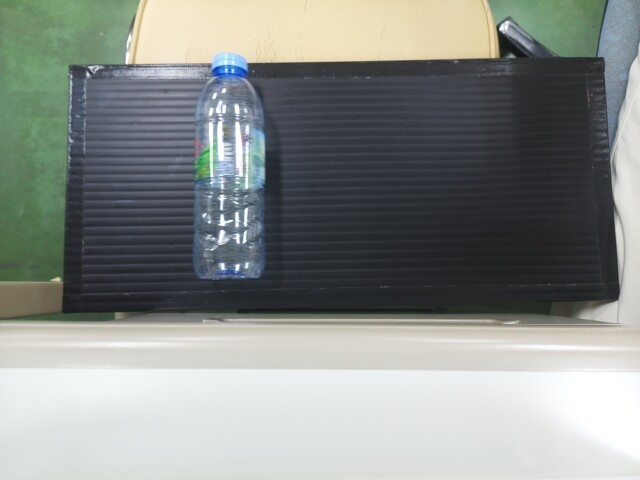plastic_bottle: (195, 55, 264, 283)
